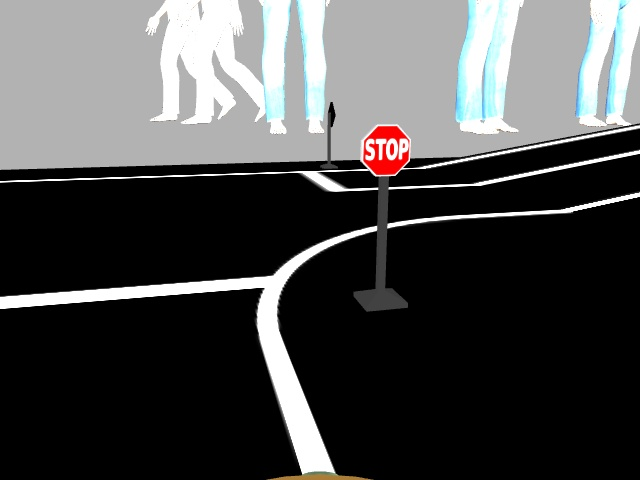Stop: (359, 124, 408, 174)
